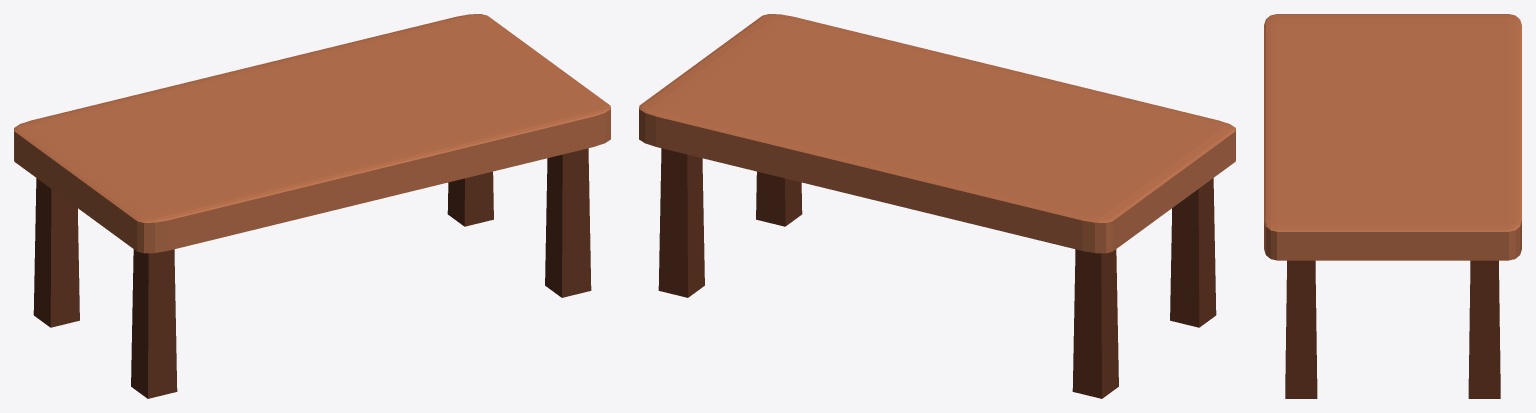
Rendered from base_2unit_table_asset.fbx.
3 renders of one model, left to right at view 1: azimuth 30°, elevation 25°; view 2: azimuth 150°, elevation 25°; view 3: azimuth 270°, elevation 25°, orthographic. The views are drawn at different scales.
Parts seen in each view (by area): view 1: Cube.212; view 2: Cube.212; view 3: Cube.212.
Part boxes in pixels (x1,y1,x2,y2): Cube.212: (14, 14, 610, 398); Cube.212: (639, 14, 1235, 398); Cube.212: (1264, 14, 1521, 398).
Bounding box in the file's own units: 196 × 73.67 × 97.97.
2 materials, 2 textured.
